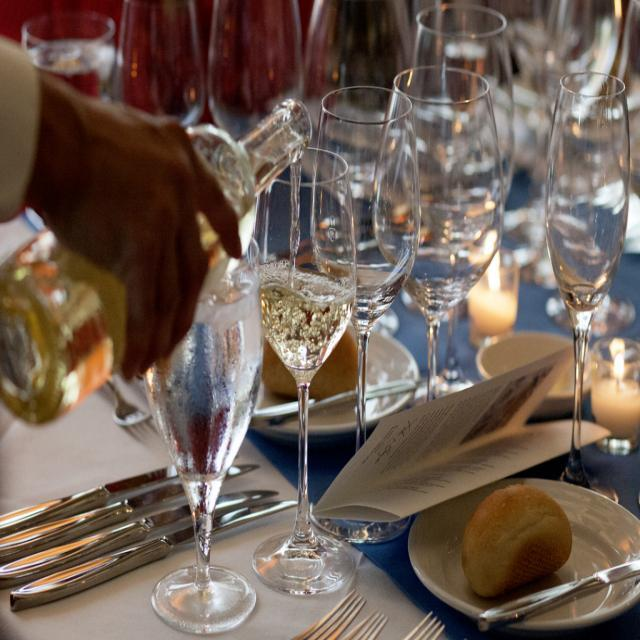Bread: (469, 482, 579, 604), (267, 328, 355, 394)
